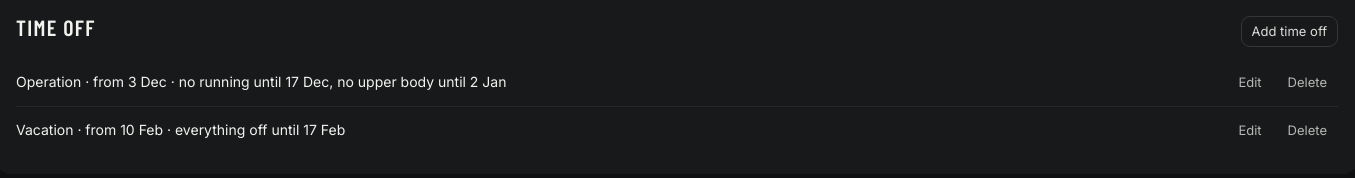
TimeOffCard › clears an earlier error once something works
Click the 1st button "Delete" at (1307, 82), box [1277,67,1338,98]
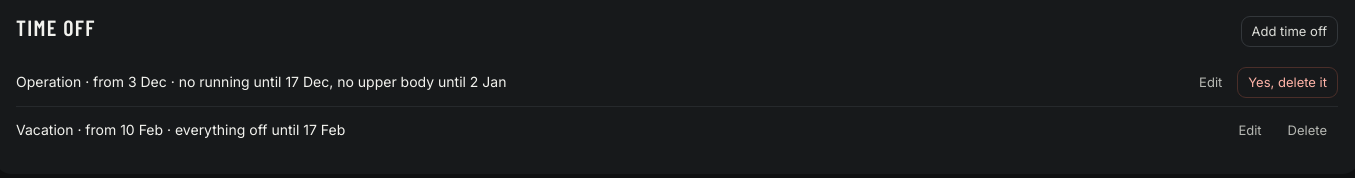
Click the button "Yes, delete it" at (1288, 82), box [1237,67,1338,98]
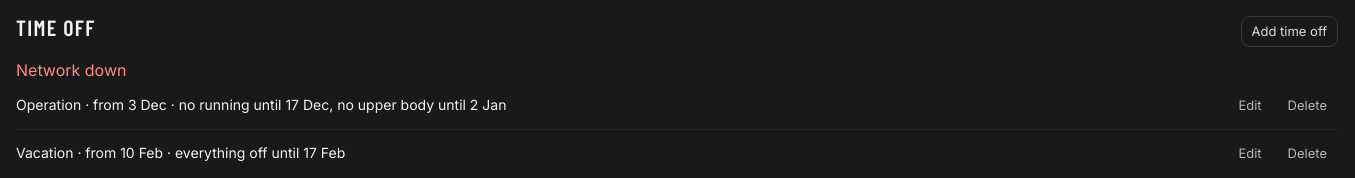
Now the message reads "Network down", box [16,60,126,80]
Click the 1st button "Delete" at (1307, 105), box [1277,90,1338,121]
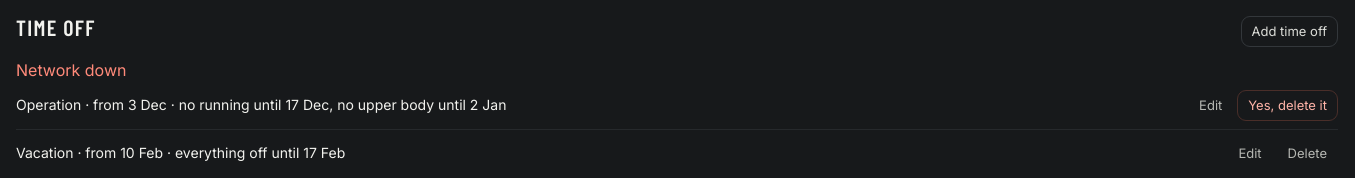
Click the button "Yes, delete it" at (1288, 105), box [1237,90,1338,121]
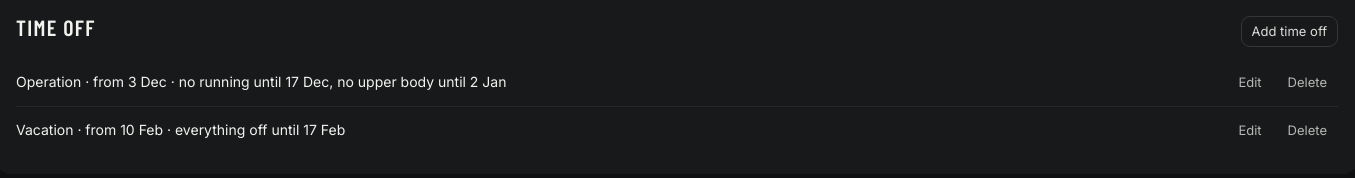
Now the message "Network down" is gone
